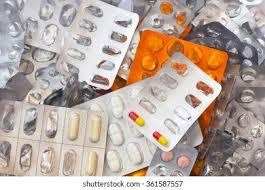pill_Strip: (92, 53, 220, 150), (130, 53, 220, 150), (0, 100, 107, 175), (58, 0, 138, 89), (76, 92, 155, 175), (76, 93, 155, 175), (118, 0, 193, 79), (127, 30, 227, 84), (193, 64, 239, 174), (192, 3, 264, 63), (224, 66, 263, 168), (198, 65, 238, 159), (107, 94, 152, 174), (77, 83, 140, 132), (21, 0, 79, 53), (185, 22, 257, 64), (224, 101, 263, 175), (64, 112, 107, 174), (225, 101, 264, 167), (209, 0, 264, 46), (22, 46, 65, 103), (236, 86, 264, 168), (0, 0, 24, 87), (218, 20, 264, 64), (139, 0, 193, 36), (190, 35, 257, 64), (202, 130, 243, 175), (43, 74, 99, 106), (212, 64, 239, 128), (234, 65, 264, 122), (233, 66, 263, 121), (0, 0, 24, 68), (192, 4, 241, 37), (147, 143, 197, 175), (83, 111, 107, 175), (226, 25, 264, 64), (22, 45, 58, 85), (83, 113, 106, 174), (207, 130, 243, 166), (207, 0, 254, 27), (118, 28, 141, 80), (7, 137, 39, 174), (234, 83, 264, 122), (225, 101, 255, 139), (193, 128, 216, 174), (185, 21, 239, 40), (102, 0, 153, 19), (236, 134, 264, 168), (215, 153, 257, 175), (13, 139, 38, 175), (19, 103, 43, 140), (41, 107, 66, 142), (0, 72, 31, 100), (63, 109, 87, 145), (36, 142, 61, 175), (192, 2, 227, 25), (232, 5, 258, 35), (84, 114, 107, 147), (0, 101, 21, 137), (192, 3, 224, 26), (0, 75, 30, 99), (59, 145, 82, 175), (247, 1, 264, 40), (0, 136, 17, 174), (81, 148, 104, 175), (236, 65, 264, 86), (180, 121, 203, 146), (194, 156, 222, 175), (181, 122, 202, 146), (67, 112, 83, 141), (60, 145, 81, 167), (184, 121, 202, 146), (236, 88, 258, 108), (0, 104, 14, 132), (250, 141, 264, 169), (108, 123, 125, 146), (62, 149, 77, 175), (133, 0, 153, 19), (24, 89, 51, 103), (45, 110, 59, 137), (106, 150, 122, 172), (88, 116, 101, 142), (126, 142, 141, 164), (19, 144, 31, 170), (179, 0, 204, 12), (251, 26, 264, 47), (86, 151, 97, 175), (196, 81, 213, 95), (129, 112, 144, 126), (153, 131, 168, 145), (151, 87, 166, 101), (164, 119, 178, 133), (179, 23, 192, 38), (239, 0, 263, 7), (126, 168, 147, 175), (16, 0, 24, 10), (256, 169, 264, 175), (0, 173, 9, 175)
